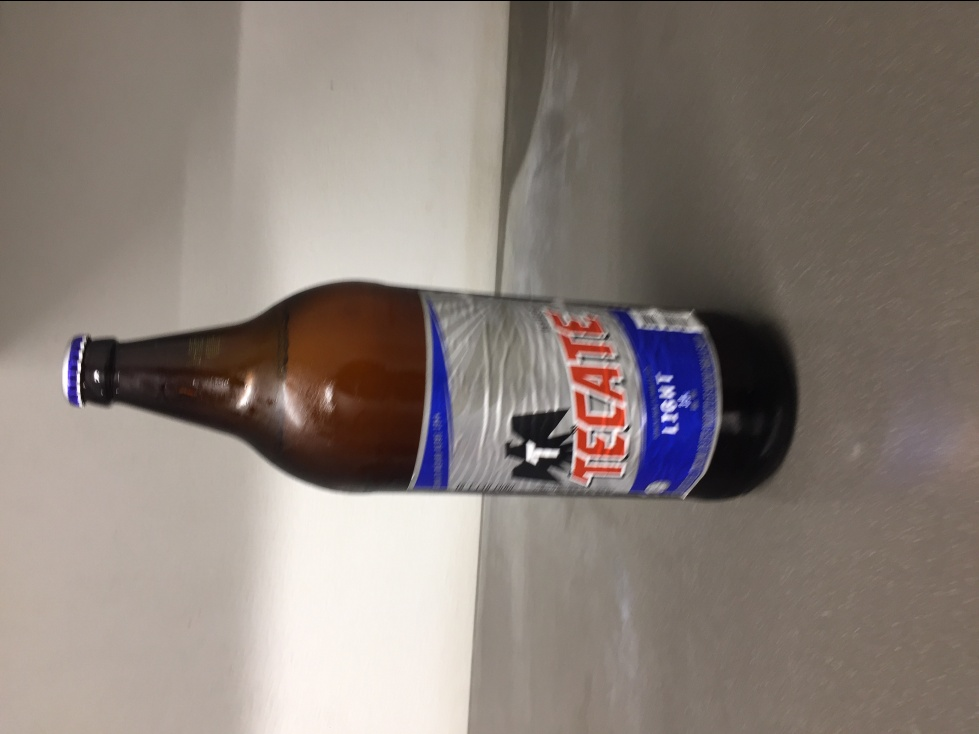tecateC: (52, 282, 791, 510)
